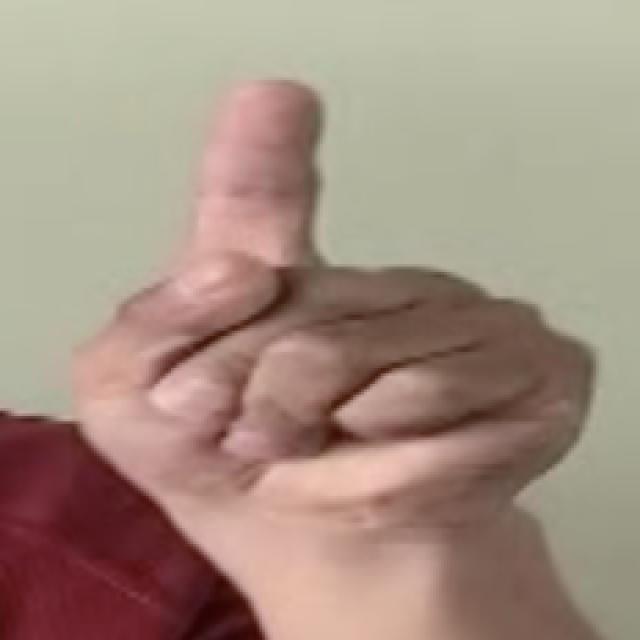Z: (64, 57, 606, 531)
